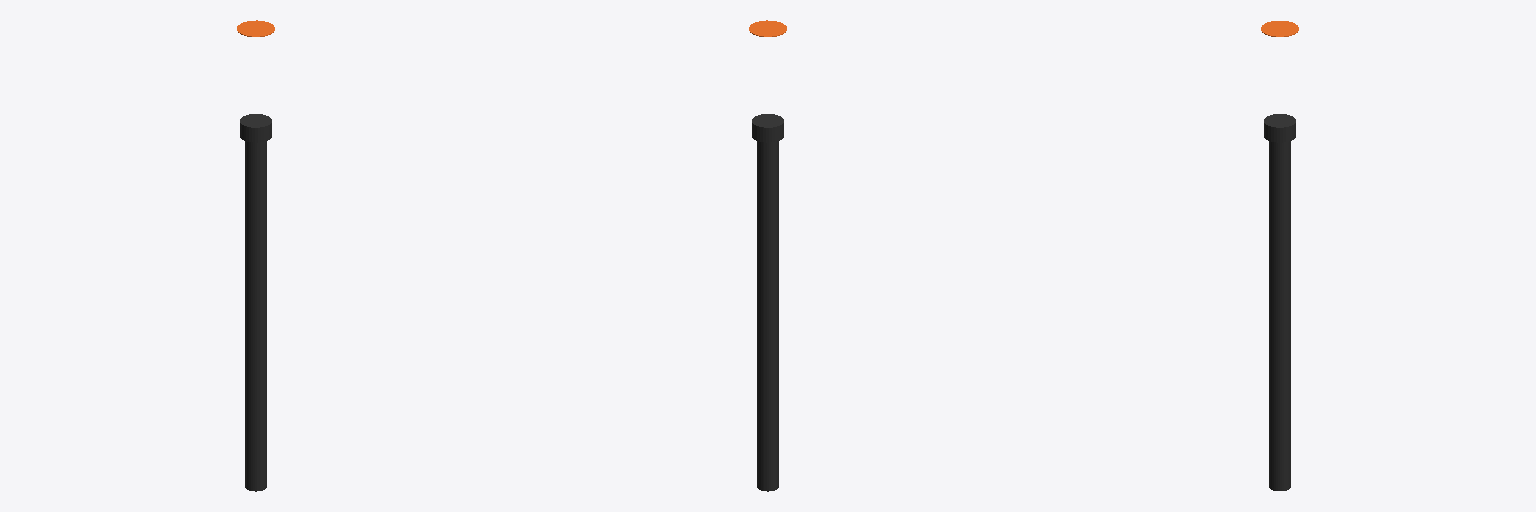
URDF robot description (happymimiGen2):
<?xml version="1.0" encoding="utf-8"?>
<!-- =================================================================================== -->
<!-- |    This document was autogenerated by xacro from happymimi.urdf.xacro           | -->
<!-- |    EDITING THIS FILE BY HAND IS NOT RECOMMENDED                                 | -->
<!-- =================================================================================== -->
<robot name="happymimiGen2">
  <link name="base_footprint"/>
  <joint name="base_joint" type="fixed">
    <origin xyz="0 0 0"/>
    <parent link="base_footprint"/>
    <child link="base_link"/>
  </joint>
  <link name="base_link">
    <visual>
      <origin xyz="-0.028241 -0.073553 0.01"/>
      <geometry>
        <mesh filename="package://happymimi_description/meshes/dae/megarover.dae"/>
      </geometry>
    </visual>
  </link>
  <material name="orange">
    <color rgba="1.0 0.5 0.2 1"/>
  </material>
  <material name="gray">
    <color rgba="0.25 0.25 0.25 1"/>
  </material>
  <!-- spine -->
  <joint name="spine_joint" type="fixed">
    <parent link="base_link"/>
    <child link="spine_link"/>
    <origin rpy="0 0 0" xyz="-0.03 0 0.165"/>
  </joint>
  <link name="spine_link">
    <visual>
      <origin rpy="0 0 0" xyz="0 0 0.361"/>
      <geometry>
        <cylinder length="0.722" radius="0.02"/>
      </geometry>
      <material name="gray"/>
    </visual>
  </link>
  <!-- neck -->
  <joint name="neck_joint" type="revolute">
    <!-- <joint name="neck_joint" type="fixed"> -->
    <parent link="spine_link"/>
    <child link="neck_link"/>
    <origin rpy="0 0 0" xyz="0 0 0.722"/>
    <axis xyz="0 1 0"/>
    <limit effort="1000" lower="-1.5" upper="1.5" velocity="0.5"/>
  </joint>
  <link name="neck_link">
    <visual>
      <origin rpy="0 0 0" xyz="0 0 0"/>
      <geometry>
        <cylinder length="0.03" radius="0.03"/>
      </geometry>
      <material name="gray"/>
    </visual>
  </link>
  <!--  lidar  -->
  <joint name="base_laser_link_joint" type="fixed">
    <parent link="base_footprint"/>
    <child link="base_laser_link"/>
    <origin rpy="3.14159 0.0 0.0" xyz="0.1 0 0.105"/>
  </joint>
  <link name="base_laser_link">
    <visual>
      <origin rpy="0 3.14 3.14" xyz="0 0 0"/>
      <geometry>
        <mesh filename="package://happymimi_description/meshes/stl/lrf.stl"/>
        <!-- <cylinder length="0.09" radius="0.03" /> -->
      </geometry>
      <material name="orange"/>
    </visual>
  </link>
  <material name="camera_aluminum">
    <color rgba="0.5 0.5 0.5 1"/>
  </material>
  <!-- camera body, with origin at bottom screw mount -->
  <joint name="camera_joint" type="fixed">
    <origin xyz="0.07 0 0.15"/>
    <parent link="neck_link"/>
    <child link="camera_bottom_screw_frame"/>
  </joint>
  <link name="camera_bottom_screw_frame"/>
  <joint name="camera_link_joint" type="fixed">
    <origin rpy="0 0 0" xyz="0 0.0175 0.0125"/>
    <parent link="camera_bottom_screw_frame"/>
    <child link="camera_link"/>
  </joint>
  <link name="camera_link">
    <visual>
      <origin rpy="1.57079632679 0 1.57079632679" xyz="0.0149 -0.0175 0"/>
      <geometry>
        <!-- <box size="${d435_cam_width} ${d435_cam_height} ${d435_cam_depth}"/> -->
        <mesh filename="package://realsense2_description/meshes/d435.dae"/>
        <!--<mesh filename="package://realsense2_description/meshes/d435/d435.dae" />-->
      </geometry>
      <material name="camera_aluminum"/>
    </visual>
    <collision>
      <origin rpy="0 0 0" xyz="0 -0.0175 0"/>
      <geometry>
        <box size="0.02505 0.09 0.025"/>
      </geometry>
    </collision>
    <inertial>
      <!-- The following are not reliable values, and should not be used for modeling -->
      <mass value="0.564"/>
      <origin xyz="0 0 0"/>
      <inertia ixx="0.003881243" ixy="0.0" ixz="0.0" iyy="0.000498940" iyz="0.0" izz="0.003879257"/>
    </inertial>
  </link>
  <!-- camera depth joints and links -->
  <joint name="camera_depth_joint" type="fixed">
    <origin rpy="0 0 0" xyz="0 0 0"/>
    <parent link="camera_link"/>
    <child link="camera_depth_frame"/>
  </joint>
  <link name="camera_depth_frame"/>
  <joint name="camera_depth_optical_joint" type="fixed">
    <origin rpy="-1.57079632679 0 -1.57079632679" xyz="0 0 0"/>
    <parent link="camera_depth_frame"/>
    <child link="camera_depth_optical_frame"/>
  </joint>
  <link name="camera_depth_optical_frame"/>
  <!-- camera left IR joints and links -->
  <joint name="camera_left_ir_joint" type="fixed">
    <origin rpy="0 0 0" xyz="0 0.0 0"/>
    <parent link="camera_depth_frame"/>
    <child link="camera_left_ir_frame"/>
  </joint>
  <link name="camera_left_ir_frame"/>
  <joint name="camera_left_ir_optical_joint" type="fixed">
    <origin rpy="-1.57079632679 0 -1.57079632679" xyz="0 0 0"/>
    <parent link="camera_left_ir_frame"/>
    <child link="camera_left_ir_optical_frame"/>
  </joint>
  <link name="camera_left_ir_optical_frame"/>
  <!-- camera right IR joints and links -->
  <joint name="camera_right_ir_joint" type="fixed">
    <origin rpy="0 0 0" xyz="0 -0.05 0"/>
    <parent link="camera_depth_frame"/>
    <child link="camera_right_ir_frame"/>
  </joint>
  <link name="camera_right_ir_frame"/>
  <joint name="camera_right_ir_optical_joint" type="fixed">
    <origin rpy="-1.57079632679 0 -1.57079632679" xyz="0 0 0"/>
    <parent link="camera_right_ir_frame"/>
    <child link="camera_right_ir_optical_frame"/>
  </joint>
  <link name="camera_right_ir_optical_frame"/>
  <!-- camera color joints and links -->
  <joint name="camera_color_joint" type="fixed">
    <origin rpy="0 0 0" xyz="0 0.015 0"/>
    <parent link="camera_depth_frame"/>
    <child link="camera_color_frame"/>
  </joint>
  <link name="camera_color_frame"/>
  <joint name="camera_color_optical_joint" type="fixed">
    <origin rpy="-1.57079632679 0 -1.57079632679" xyz="0 0 0"/>
    <parent link="camera_color_frame"/>
    <child link="camera_color_optical_frame"/>
  </joint>
  <link name="camera_color_optical_frame"/>
  <!-- Realsense Gazebo Plugin -->
  <!-- <xacro:gazebo_d435 camera_name="realsense" reference_link="$realsense_link" topics_ns="camera" depth_optical_frame="realsense_depth_optical_frame" color_optical_frame="realsense_color_optical_frame" infrared1_optical_frame="realsense_left_ir_optical_frame" infrared2_optical_frame="realsense_right_ir_optical_frame"/> -->
  <!--  respeaker  -->
  <joint name="respeaker_link_joint" type="fixed">
    <parent link="neck_link"/>
    <child link="respeaker_link"/>
    <origin rpy="0 0 0" xyz="0 0 0.2"/>
  </joint>
  <link name="respeaker_link">
    <visual>
      <origin rpy="0 0 0" xyz="0 0 0"/>
      <geometry>
        <cylinder length="0.0015" radius="0.035"/>
      </geometry>
      <material name="orange"/>
    </visual>
  </link>
</robot>

--- Render facts (derived) ---
The picture shows the robot from 3 angles, left to right: view 1: azimuth 30°, elevation 25°; view 2: azimuth 150°, elevation 25°; view 3: azimuth 270°, elevation 25°; orthographic projection.
Robot: happymimiGen2 — 16 links, 15 joints (1 revolute, 14 fixed); root link base_footprint; default pose: every joint at zero.
Visible links, largest first — view 1: spine_link, neck_link; view 2: spine_link, neck_link; view 3: spine_link, neck_link.
Boxes of the visible links, x1,y1,x2,y2 form: spine_link: (245,141,266,491); neck_link: (240,114,271,142); spine_link: (757,141,778,491); neck_link: (752,114,783,142); spine_link: (1269,141,1290,490); neck_link: (1264,114,1295,142).
Bounding box of the posed robot: 0.07 × 0.07 × 0.9227 m (x, y, z).
Meshes: 3 distinct files referenced, 0 mesh visuals loaded (none loaded); not drawn: 3 (reference not matched to a file when rendering).
